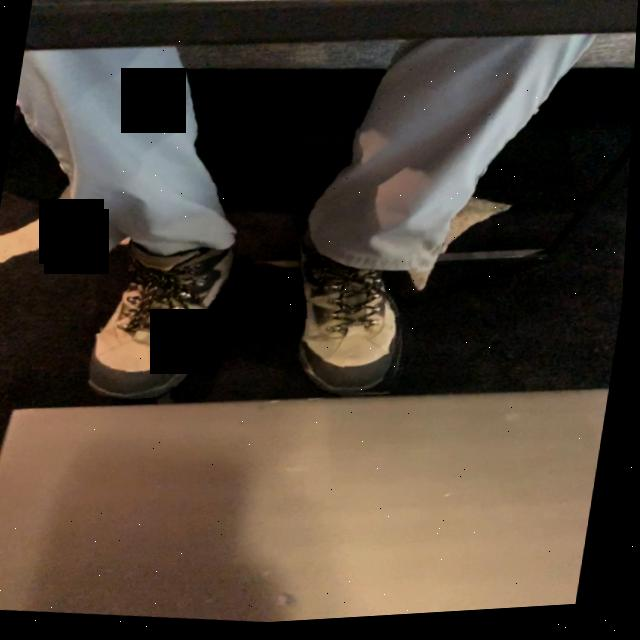shoe: (90, 234, 243, 399), (305, 233, 405, 399)
